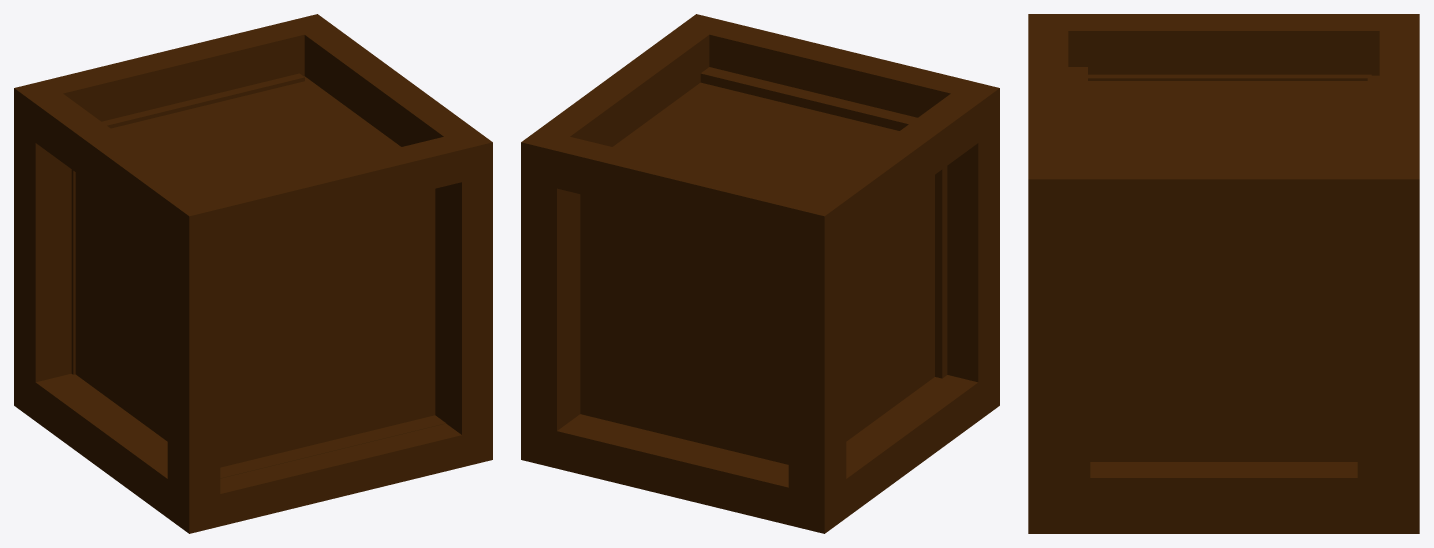
Rendered from kostka.glb.
The picture shows the model from 3 angles, left to right: view 1: azimuth 30°, elevation 25°; view 2: azimuth 150°, elevation 25°; view 3: azimuth 270°, elevation 25°; orthographic projection. The views are drawn at different scales.
Parts seen in each view (by area): view 1: Cube; view 2: Cube; view 3: Cube.
Part boxes in pixels (x1,y1,x2,y2): Cube: (14, 14, 492, 533); Cube: (521, 14, 999, 533); Cube: (1028, 14, 1419, 533).
Bounding box in the file's own units: 3.72 × 3.72 × 3.72.
